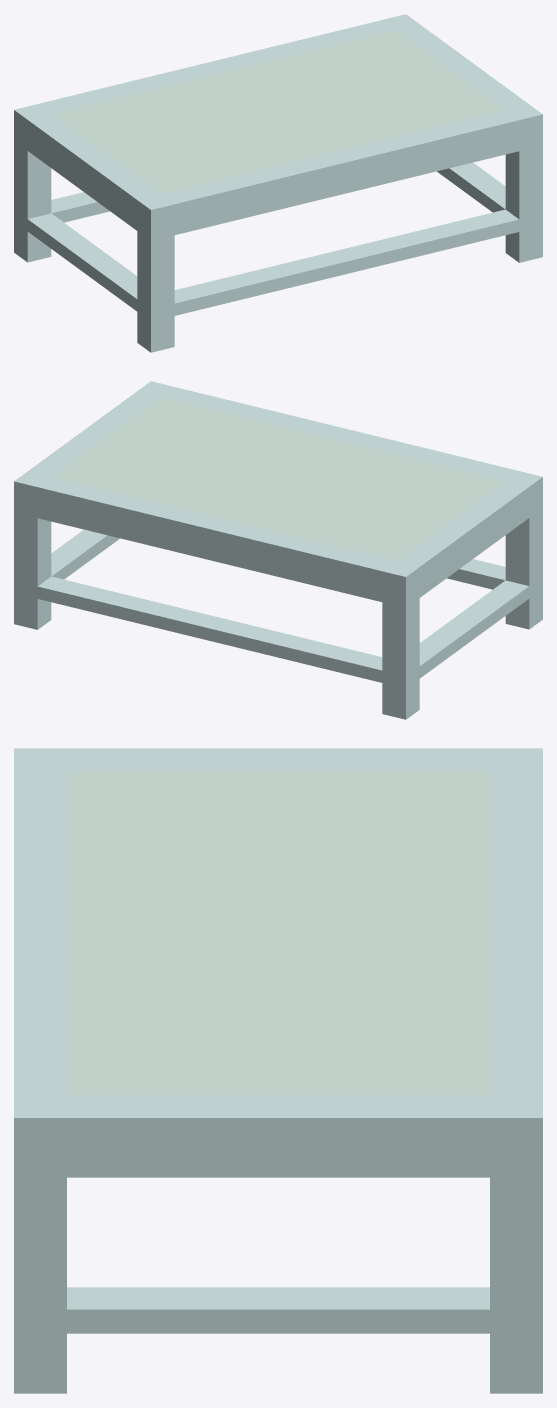
Rendered from tableCoffeeGlass.glb.
3 renders of one model, top to bottom at view 1: azimuth 30°, elevation 25°; view 2: azimuth 150°, elevation 25°; view 3: azimuth 270°, elevation 25°, orthographic. The views are drawn at different scales.
Visible parts, largest first — view 1: tableCoffeeGlass; view 2: tableCoffeeGlass; view 3: tableCoffeeGlass.
Boxes of the visible parts, x1,y1,x2,y2 form: tableCoffeeGlass: [14, 14, 542, 352]; tableCoffeeGlass: [14, 381, 542, 719]; tableCoffeeGlass: [14, 748, 542, 1393].
Bounding box in the file's own units: 6.61 × 2.3 × 4.
